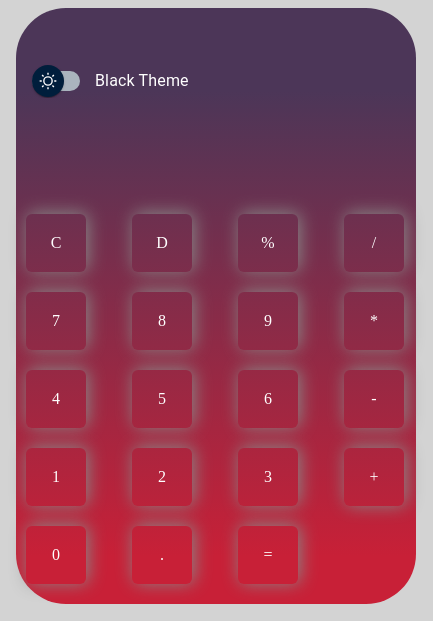
it: calculator › should replace last operator if clicked on any two operators simultaneously
Click the text "2": (162, 477) [132,448,192,506]
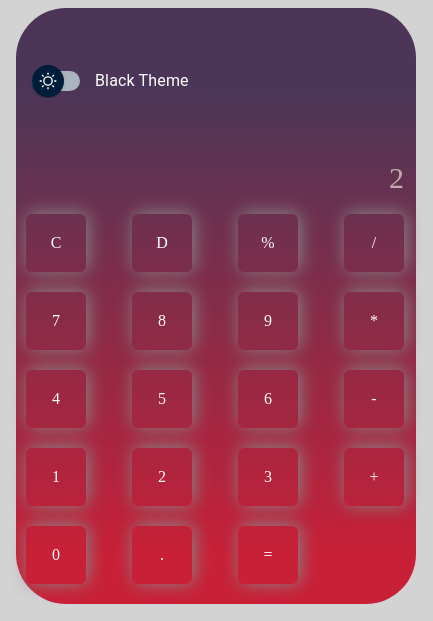
Click the text "5": (162, 399) [132,370,192,428]
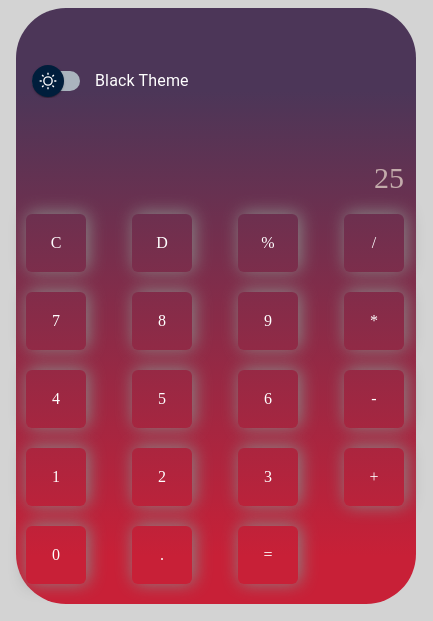
Click the text "+": (374, 477) [344,448,404,506]
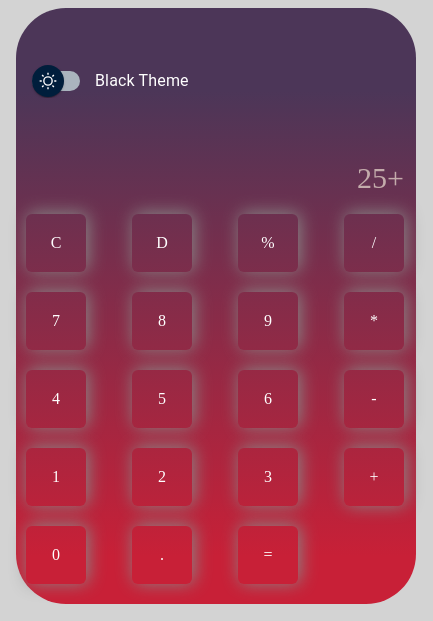
Click the text "-": (374, 399) [344,370,404,428]
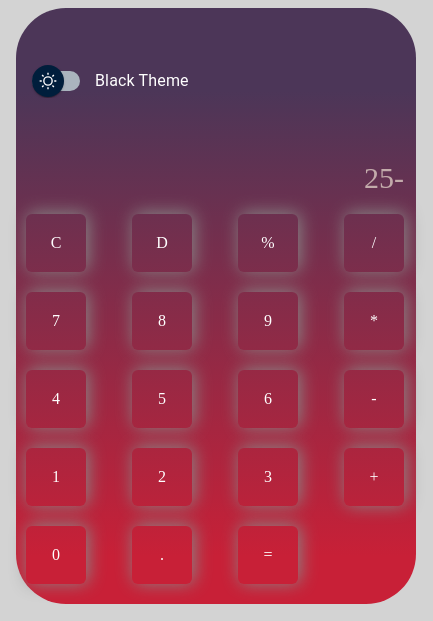
Expected: the text "25+" is not shown
Expected: the text "25-" is shown, [364,161,404,194]
